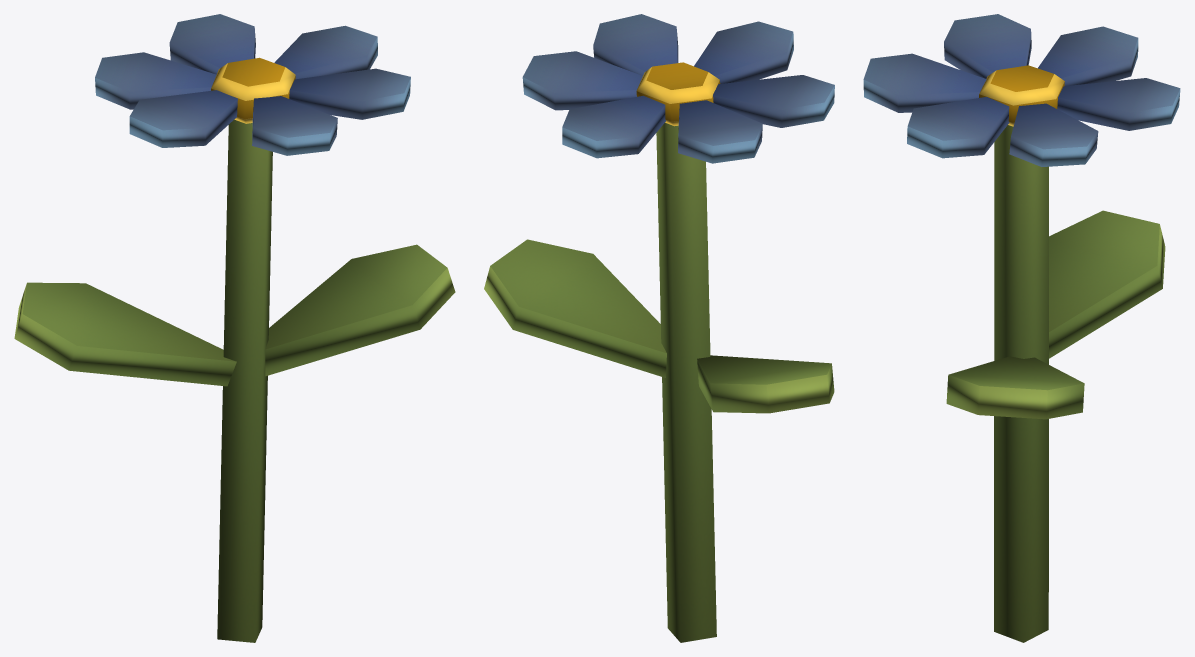
The model's file is flower_blue.fbx.
The picture shows the model from 3 angles, left to right: view 1: azimuth 30°, elevation 25°; view 2: azimuth 150°, elevation 25°; view 3: azimuth 270°, elevation 25°; orthographic projection.
Visible parts, largest first — view 1: flower_blue; view 2: flower_blue; view 3: flower_blue.
Part boxes in pixels (x1,y1,x2,y2): flower_blue: (14,14,455,642); flower_blue: (484,14,834,642); flower_blue: (863,14,1180,642).
Bounding box in the file's own units: 56.55 × 79.54 × 40.78.
